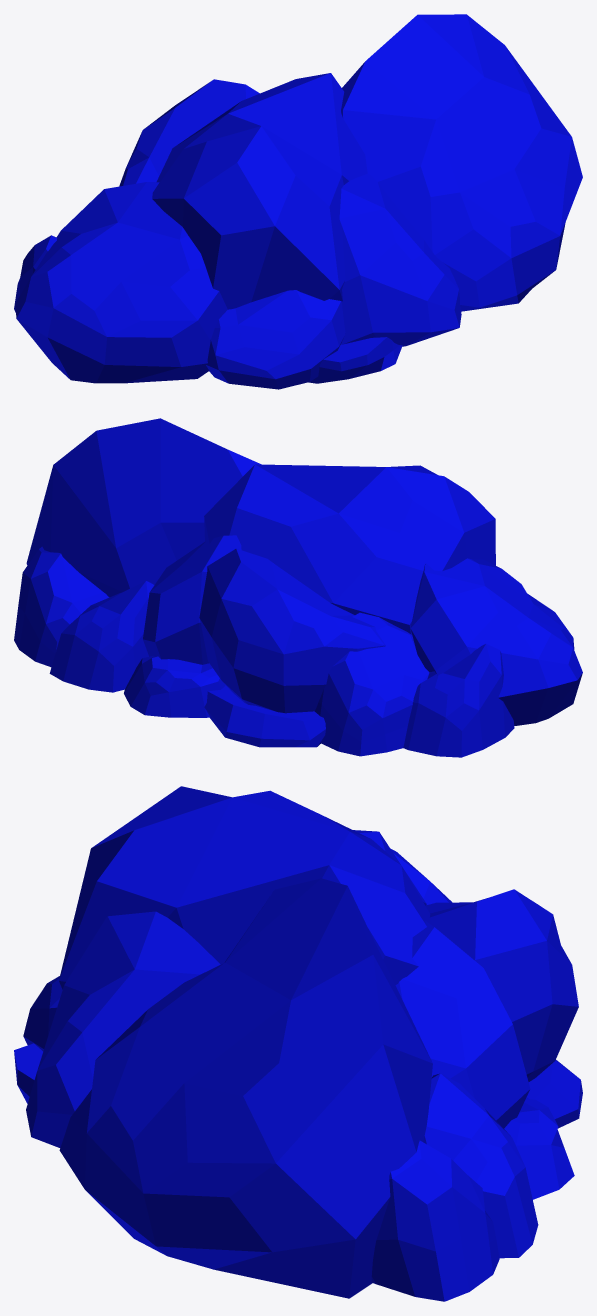
File: SM_Mountain2.fbx
3 renders of one model, top to bottom at view 1: azimuth 30°, elevation 25°; view 2: azimuth 150°, elevation 25°; view 3: azimuth 270°, elevation 25°, orthographic. The views are drawn at different scales.
Parts seen in each view (by area): view 1: SM_Mountain2; view 2: SM_Mountain2; view 3: SM_Mountain2.
Boxes of the visible parts, x1,y1,x2,y2 form: SM_Mountain2: (14,14,582,389); SM_Mountain2: (14,418,582,757); SM_Mountain2: (14,786,582,1301).
Size of the model in its own units: 3552 by 1462 by 2233.
